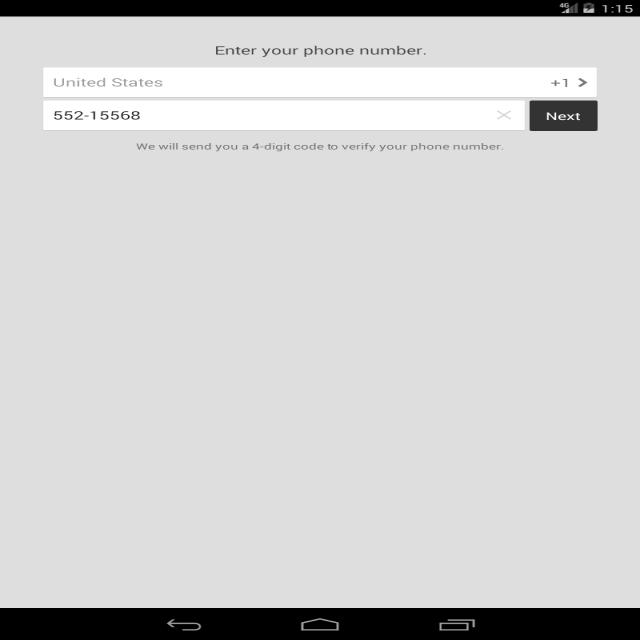Button: (526, 96, 604, 138)
EditText: (36, 96, 520, 134)
TextView: (126, 138, 516, 160), (206, 40, 432, 58)
